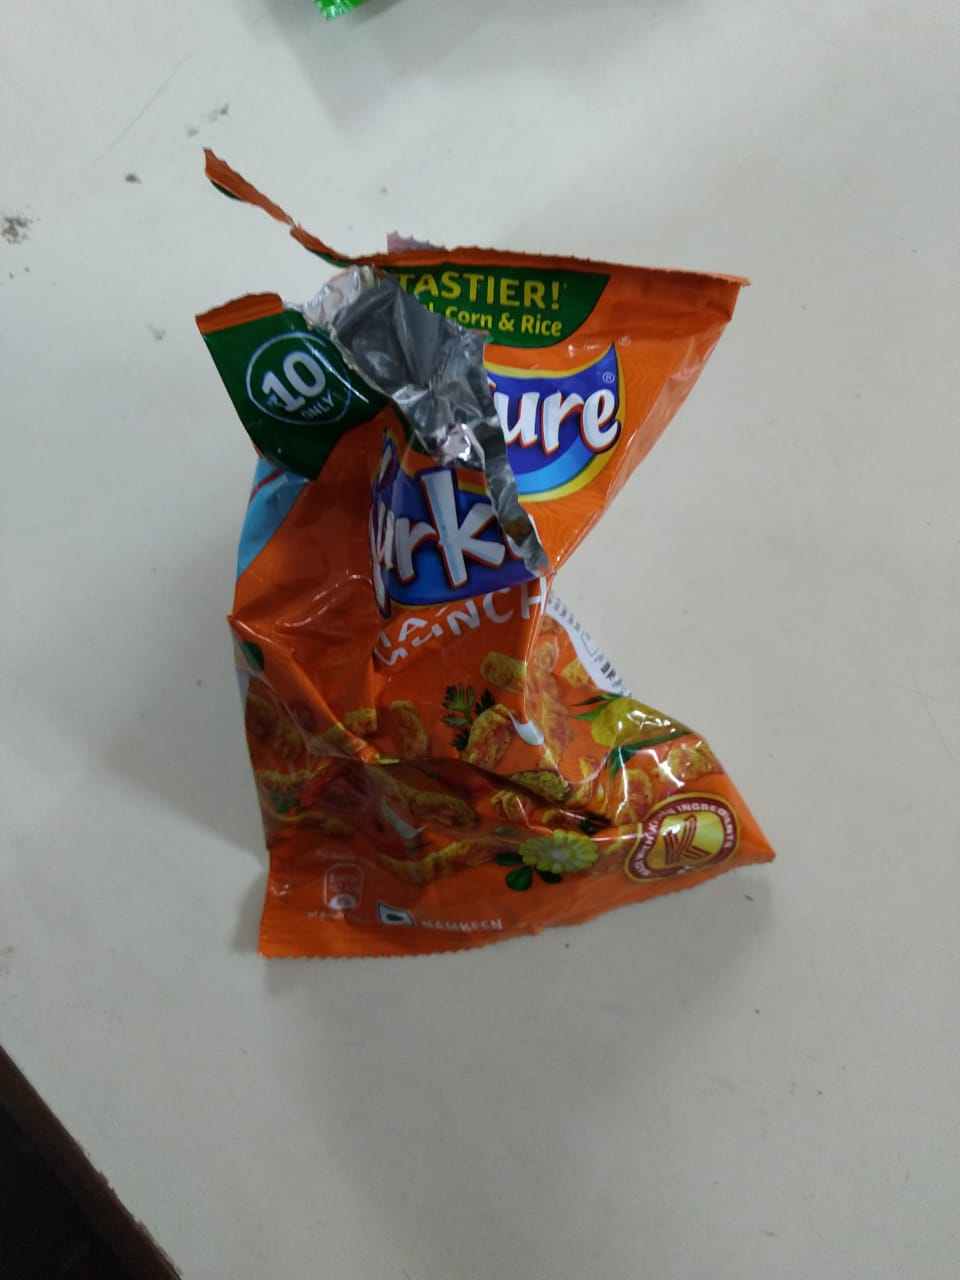kurkure: (353, 321, 627, 637), (292, 346, 643, 574), (333, 420, 529, 615), (480, 326, 631, 531)
plastic: (204, 150, 816, 915)
wrapper: (233, 195, 751, 972)
